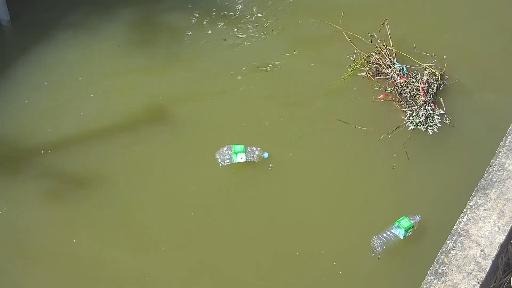plastic: (360, 208, 430, 253), (202, 139, 268, 169)
twig: (315, 13, 458, 160)
